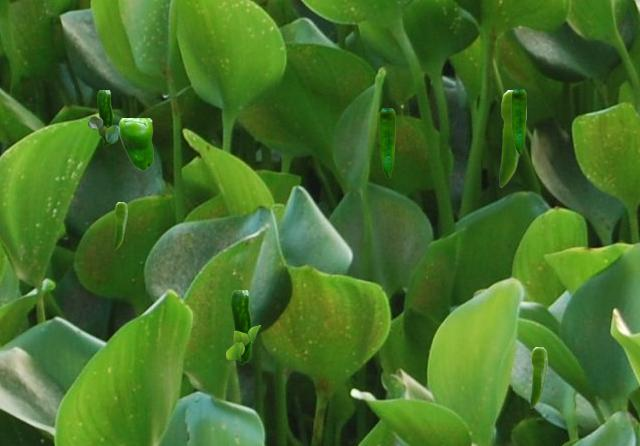green_chili: (499, 90, 520, 186), (118, 118, 152, 169), (231, 290, 250, 363), (379, 108, 394, 177), (530, 347, 546, 407), (511, 89, 525, 153), (97, 90, 111, 145), (114, 202, 126, 249)
